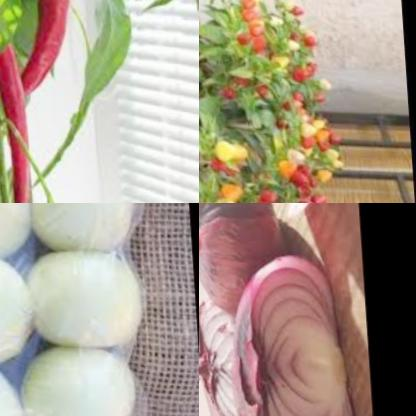hot pepper: (259, 0, 339, 104), (207, 0, 284, 104), (7, 0, 85, 99), (273, 103, 348, 203), (0, 37, 37, 203), (199, 131, 256, 178), (243, 169, 288, 203), (199, 172, 248, 203)
onion: (0, 203, 154, 416), (216, 246, 359, 416), (199, 203, 289, 308), (199, 280, 246, 416)
